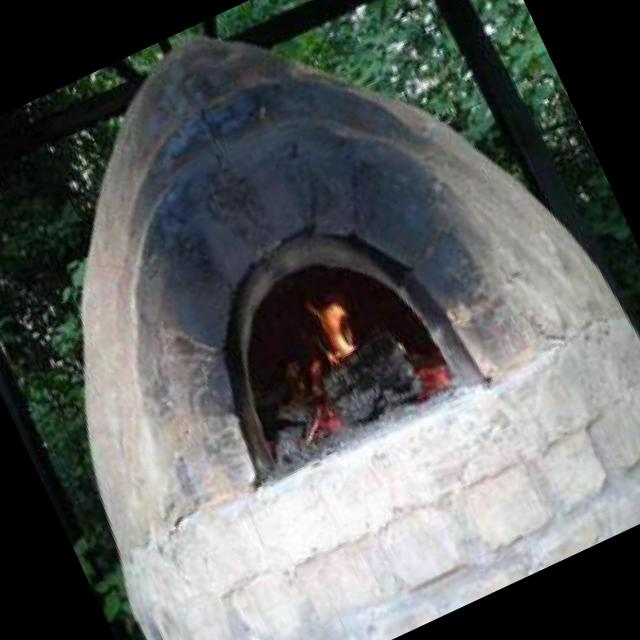fire: (282, 270, 394, 414)
